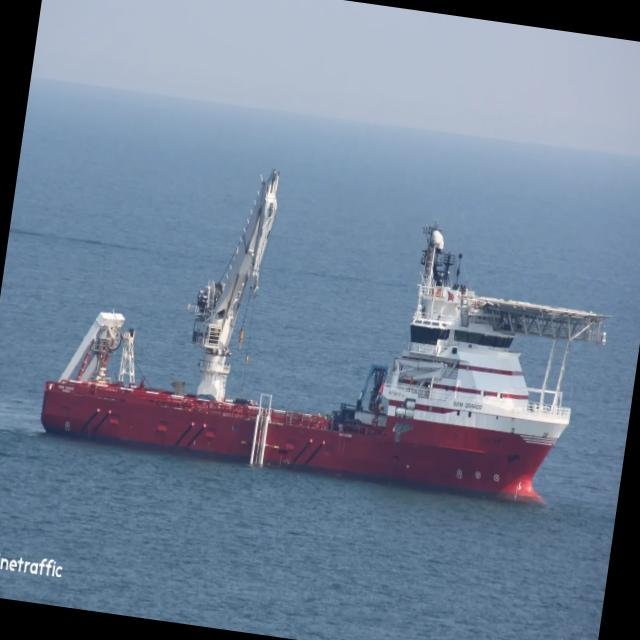Offshore: (41, 171, 609, 503)
